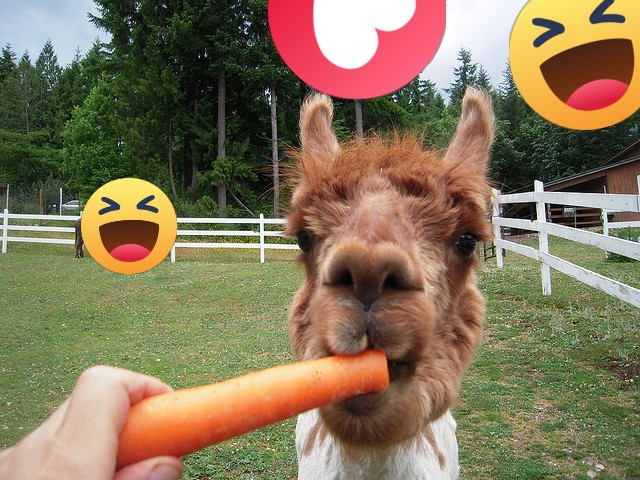haha: (509, 0, 640, 130), (81, 178, 177, 274)
love: (268, 0, 446, 99)
